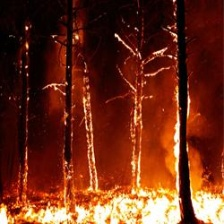fire: (38, 36, 181, 190), (1, 190, 222, 224)
